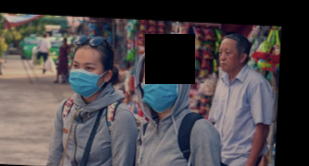with_mask: (139, 65, 179, 114), (67, 59, 104, 98)
without_mask: (219, 46, 238, 70)
